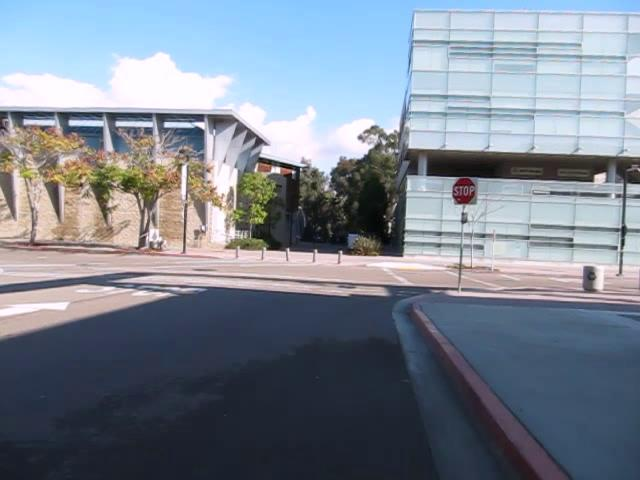stop: (452, 176, 476, 205)
